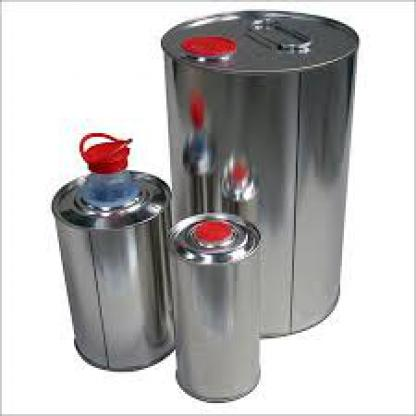METAL: (159, 7, 359, 331), (50, 166, 172, 372), (164, 209, 259, 403)
